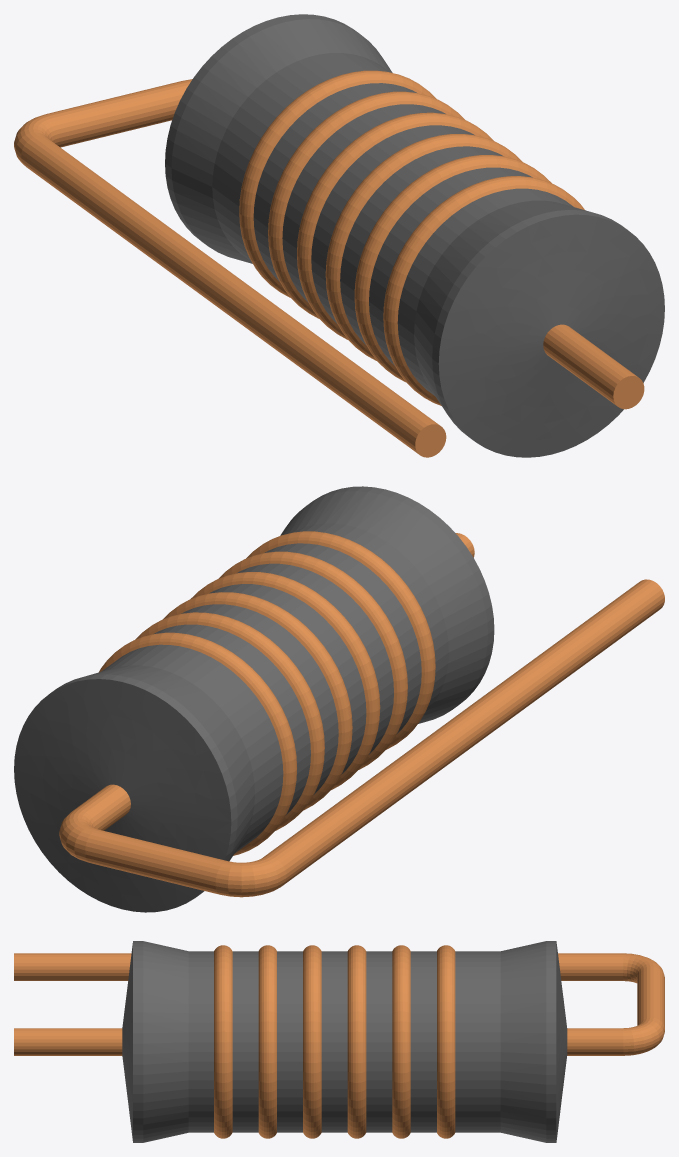
Rendered from L_Axial_L12.8mm_D5.8mm_P5.08mm_Vertical_Fastron_HBCC.glb.
3 views of the same model, one above another, from view 1: azimuth 30°, elevation 25°; view 2: azimuth 150°, elevation 25°; view 3: azimuth 270°, elevation 25° (orthographic). The views are drawn at different scales.
Parts seen in each view (by area): view 1: Shape_IndexedFaceSet.002, Shape_IndexedFaceSet.025, Shape_IndexedFaceSet.018, Shape_IndexedFaceSet.017, Shape_IndexedFaceSet.004, Shape_IndexedFaceSet.006, Shape_IndexedFaceSet.016, Shape_IndexedFaceSet.014, Shape_IndexedFaceSet.010, Shape_IndexedFaceSet.008, Shape_IndexedFaceSet.012, Shape_IndexedFaceSet.005 (+12 smaller); view 2: Shape_IndexedFaceSet.020, Shape_IndexedFaceSet.025, Shape_IndexedFaceSet.004, Shape_IndexedFaceSet.017, Shape_IndexedFaceSet.018, Shape_IndexedFaceSet.016, Shape_IndexedFaceSet.023, Shape_IndexedFaceSet.012, Shape_IndexedFaceSet.006, Shape_IndexedFaceSet.014, Shape_IndexedFaceSet.008, Shape_IndexedFaceSet.010 (+11 smaller); view 3: Shape_IndexedFaceSet.018, Shape_IndexedFaceSet.004, Shape_IndexedFaceSet.017, Shape_IndexedFaceSet.025, Shape_IndexedFaceSet.007, Shape_IndexedFaceSet.011, Shape_IndexedFaceSet.013, Shape_IndexedFaceSet.015, Shape_IndexedFaceSet.005, Shape_IndexedFaceSet.009, Shape_IndexedFaceSet.012, Shape_IndexedFaceSet.008 (+13 smaller).
Part boxes in pixels (x1,y1,x2,y2): Shape_IndexedFaceSet.002: (438,214,664,457); Shape_IndexedFaceSet.025: (21,135,439,454); Shape_IndexedFaceSet.018: (171,19,392,263); Shape_IndexedFaceSet.017: (212,53,389,261); Shape_IndexedFaceSet.004: (414,200,590,411); Shape_IndexedFaceSet.006: (383,176,584,405); Shape_IndexedFaceSet.016: (239,70,436,297); Shape_IndexedFaceSet.014: (268,91,464,318); Shape_IndexedFaceSet.010: (325,134,522,360); Shape_IndexedFaceSet.008: (354,155,551,382); Shape_IndexedFaceSet.012: (297,112,493,339); Shape_IndexedFaceSet.005: (397,188,573,396); Shape_IndexedFaceSet.020: (14,679,231,912); Shape_IndexedFaceSet.025: (263,579,664,885); Shape_IndexedFaceSet.004: (280,491,487,723); Shape_IndexedFaceSet.017: (101,644,283,852); Shape_IndexedFaceSet.018: (86,665,254,861); Shape_IndexedFaceSet.016: (99,632,296,855); Shape_IndexedFaceSet.023: (85,829,227,894); Shape_IndexedFaceSet.012: (163,592,352,810); Shape_IndexedFaceSet.006: (246,531,435,749); Shape_IndexedFaceSet.014: (135,612,324,830); Shape_IndexedFaceSet.008: (218,551,407,769); Shape_IndexedFaceSet.010: (191,572,380,789); Shape_IndexedFaceSet.018: (500,941,546,1142); Shape_IndexedFaceSet.004: (143,941,188,1142); Shape_IndexedFaceSet.017: (455,951,500,1132); Shape_IndexedFaceSet.025: (14,953,623,980); Shape_IndexedFaceSet.007: (232,951,258,1132); Shape_IndexedFaceSet.011: (321,951,347,1132); Shape_IndexedFaceSet.013: (366,951,392,1132); Shape_IndexedFaceSet.015: (410,951,436,1132); Shape_IndexedFaceSet.005: (188,951,213,1132); Shape_IndexedFaceSet.009: (277,951,302,1132); Shape_IndexedFaceSet.012: (347,945,366,1138); Shape_IndexedFaceSet.008: (258,945,276,1138).
Size of the model in its own units: 3.3 by 2.28 by 7.36.
